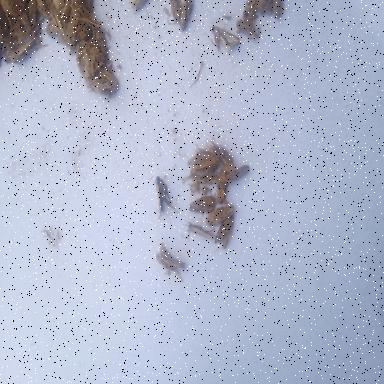pbw: (154, 174, 180, 216), (206, 23, 240, 52), (3, 36, 37, 64), (181, 220, 215, 240), (236, 14, 258, 40), (206, 204, 234, 224), (155, 242, 175, 270), (188, 194, 216, 214), (194, 144, 215, 170), (196, 168, 226, 184), (52, 12, 68, 42), (220, 216, 234, 250), (224, 165, 250, 181), (188, 152, 206, 174), (179, 1, 192, 31), (218, 150, 234, 172), (168, 0, 182, 25), (82, 46, 92, 80), (213, 219, 226, 245), (162, 256, 184, 270), (86, 78, 110, 90), (36, 5, 54, 20), (216, 180, 228, 202), (27, 0, 37, 26), (127, 0, 147, 12), (242, 0, 258, 15), (59, 1, 70, 22), (102, 66, 114, 82), (272, 0, 282, 18), (53, 1, 63, 11), (256, 0, 265, 10)
